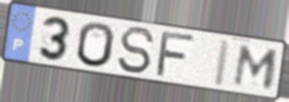3: (38, 14, 71, 63)
F: (153, 30, 199, 79)
I: (211, 38, 233, 89)
M: (231, 43, 282, 92)
O: (75, 21, 117, 70)
S: (116, 25, 157, 76)
